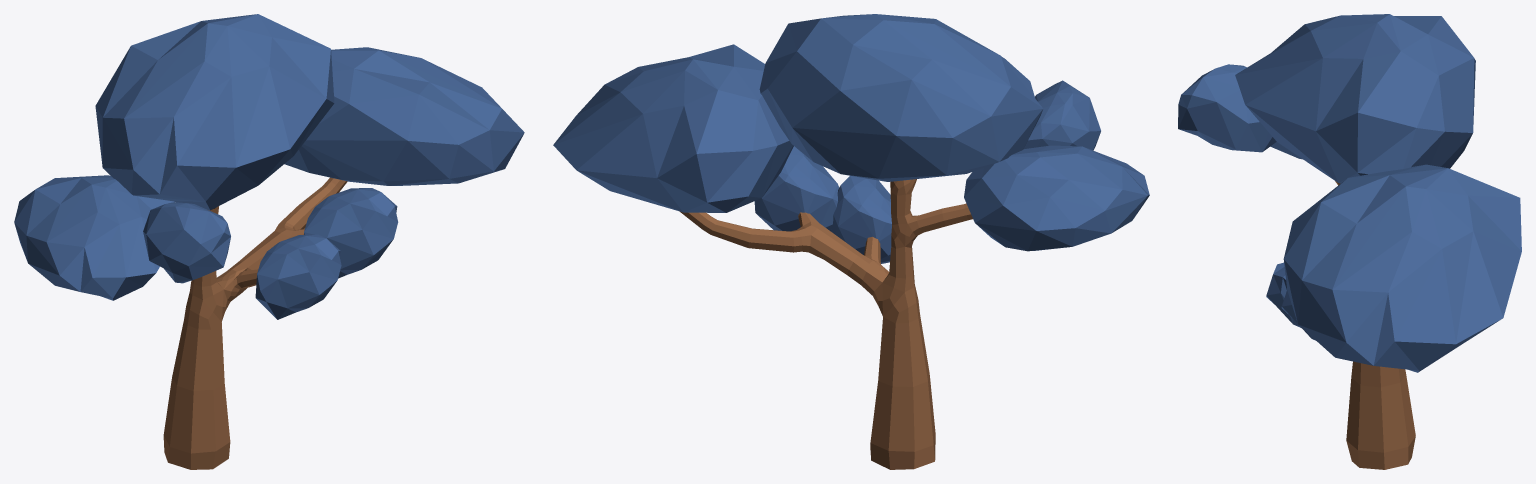
Rendered from tree-winter-complete-5-009.glb.
3 views of the same model, side by side, from view 1: azimuth 30°, elevation 25°; view 2: azimuth 150°, elevation 25°; view 3: azimuth 270°, elevation 25° (orthographic). The views are drawn at different scales.
Parts seen in each view (by area): view 1: TREE 5.005_202, TREE 5.004_203; view 2: TREE 5.005_202, TREE 5.004_203; view 3: TREE 5.005_202, TREE 5.004_203.
Part boxes in pixels (left/top/right/bottom): TREE 5.005_202: left=14, top=14, right=524, bottom=319; TREE 5.004_203: left=163, top=177, right=347, bottom=469; TREE 5.005_202: left=553, top=14, right=1149, bottom=263; TREE 5.004_203: left=679, top=179, right=972, bottom=469; TREE 5.005_202: left=1178, top=14, right=1521, bottom=372; TREE 5.004_203: left=1335, top=181, right=1415, bottom=469.
Bounding box in the file's own units: 1.99 × 1.63 × 1.12.
